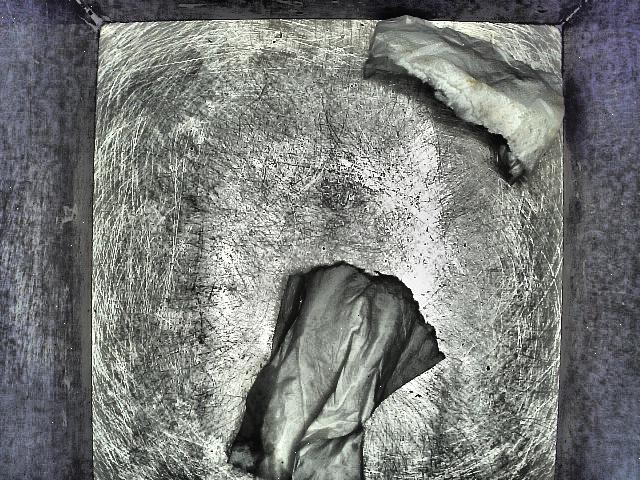Paper: (164, 261, 454, 480), (360, 1, 564, 224)
